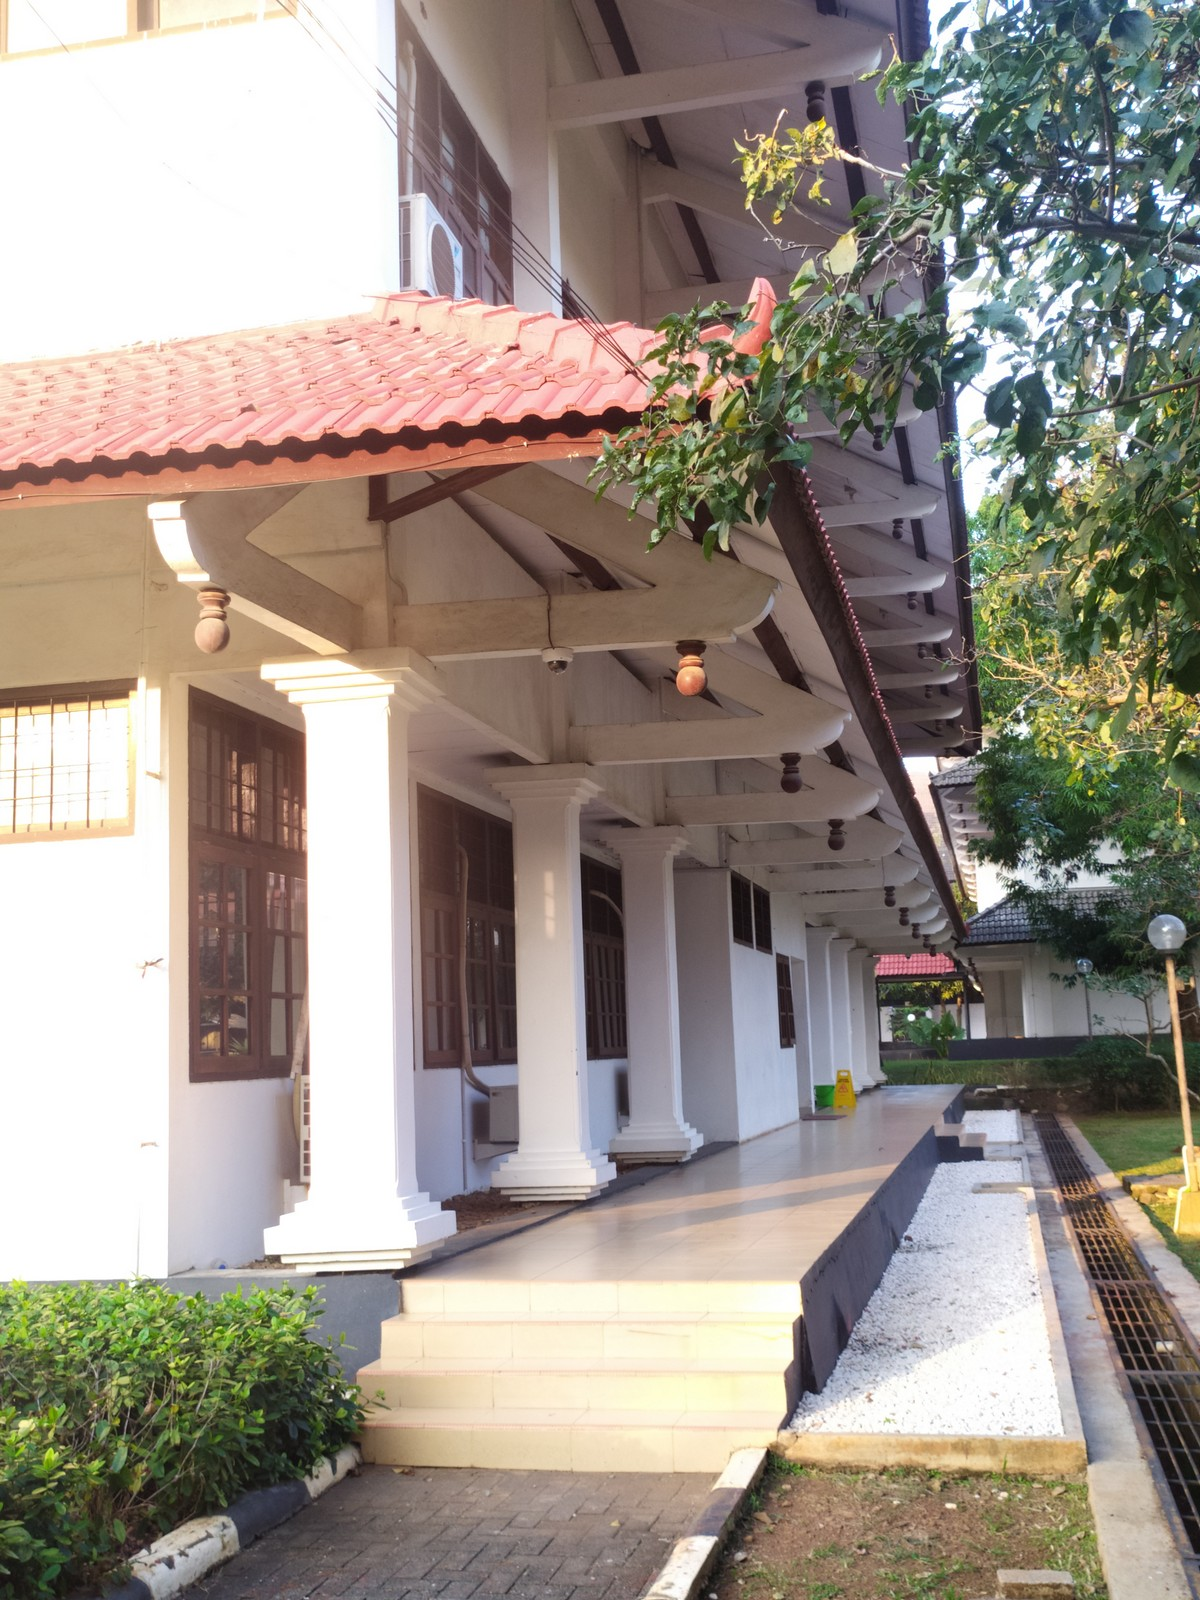concrete beam: (379, 588, 663, 674), (532, 55, 803, 134), (551, 708, 768, 782), (653, 781, 818, 842)
concrete column: (294, 698, 432, 1193), (504, 792, 599, 1165), (613, 848, 692, 1120)
